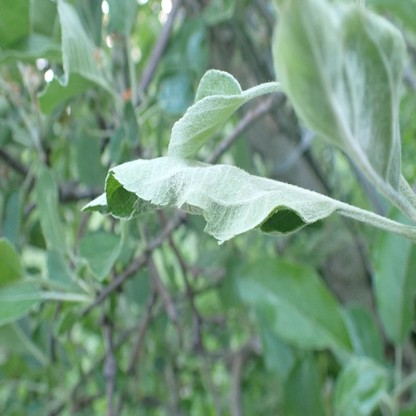powder: (81, 68, 243, 210), (106, 156, 340, 244)
